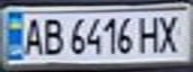1: (100, 15, 121, 55)
4: (84, 15, 103, 56)
6: (115, 15, 139, 55), (66, 15, 87, 55)
A: (18, 15, 45, 57)
B: (39, 15, 66, 56)
H: (136, 14, 163, 54)
X: (154, 12, 187, 54)
